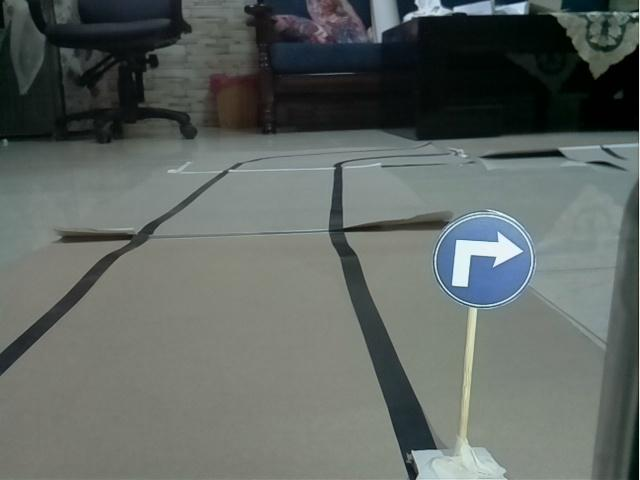turn: (431, 211, 536, 310)
